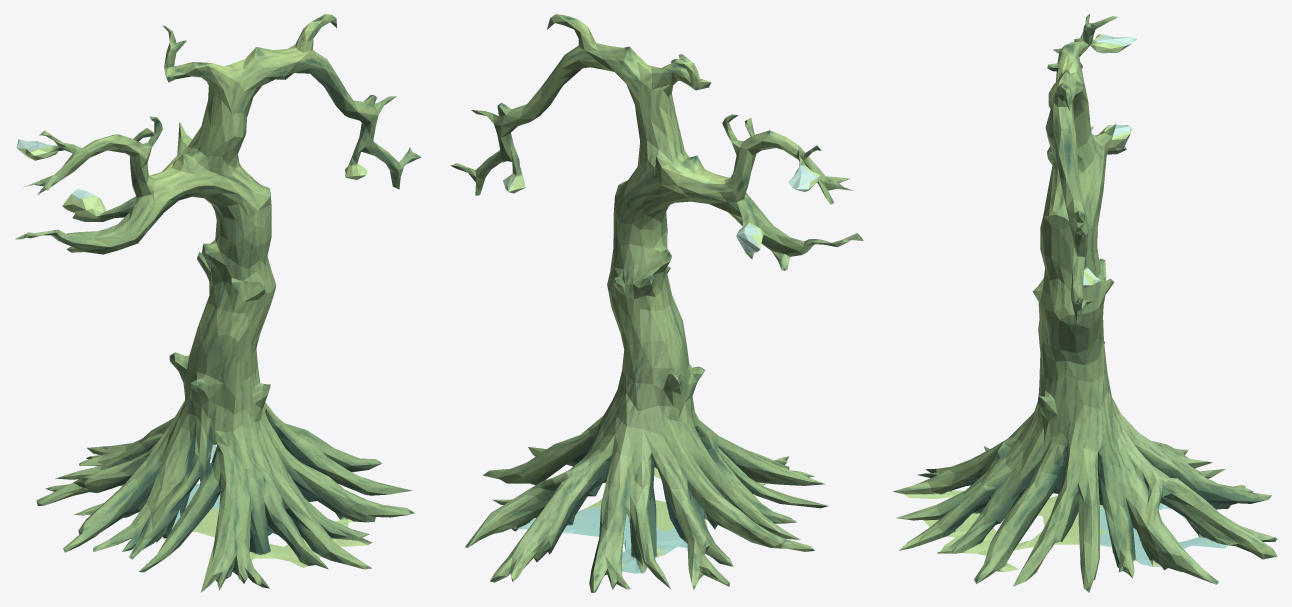
The model's file is nameless_tree.glb.
3 views of the same model, side by side, from view 1: azimuth 30°, elevation 25°; view 2: azimuth 150°, elevation 25°; view 3: azimuth 270°, elevation 25° (orthographic).
Visible parts, largest first — view 1: world; view 2: world; view 3: world.
Boxes of the visible parts, x1,y1,x2,y2 form: world: [15, 14, 421, 592]; world: [450, 14, 863, 592]; world: [893, 14, 1277, 592].
Bounding box in the file's own units: 0.8505 × 0.9754 × 0.6906.
1 material, 1 textured.
